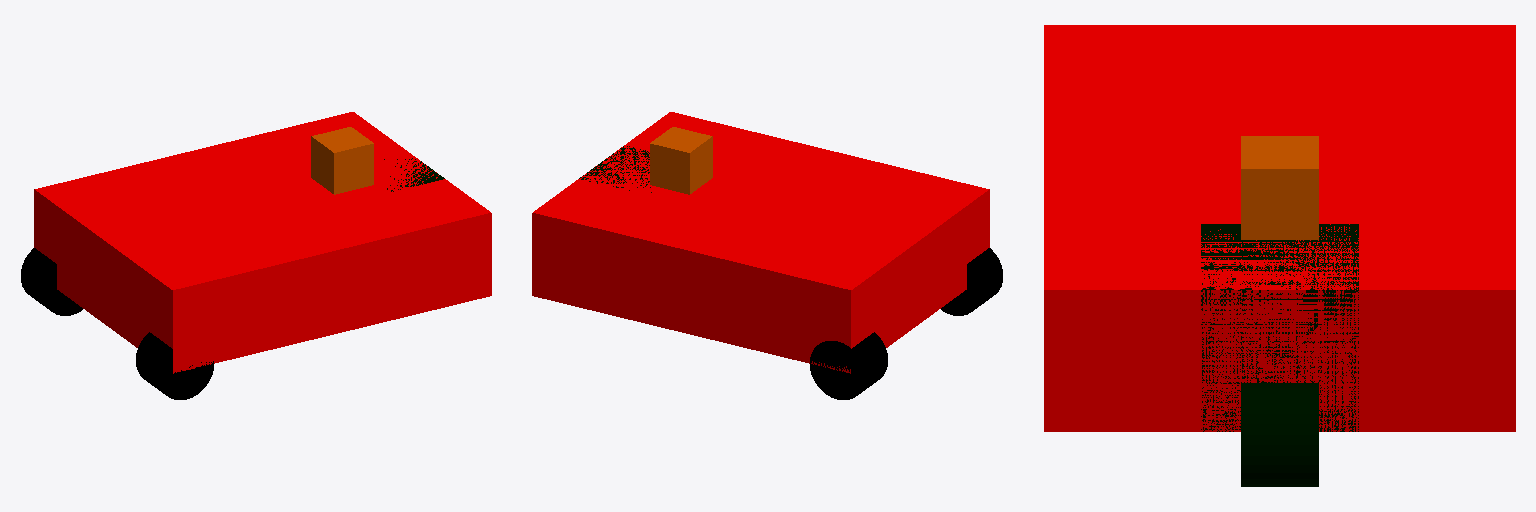
robot.urdf — custom_robot:
<?xml version="1.0"?>
<robot name="custom_robot">
    <link name="base_link">
        <visual>
            <geometry>
                <box size="0.4 0.3 0.1"/>
            </geometry>
            <material name="red">
                <color rgba="1 0.0 0.0 1"/>
            </material>
        </visual>

        <collision>
            <geometry>
                <box size="0.4 0.3 0.1"/>
            </geometry>
        </collision>
        
        <inertial>
            <mass value="1.0"/>
            <inertia ixx="0.015" ixy="0" ixz="0" iyy="0.0375" iyz="0.0" izz="0.0375"/>
        </inertial>
    </link>
    
    <link name="front_caster_of_wheel">
        <visual>
            <geometry>
                <box size="0.1 0.1 0.1"/>
            </geometry>
            <material name="green">
                <color rgba="0.0 0.1 0.0 1"/>
            </material>
        </visual>
        
        <collision>
            <geometry>
                <box size="0.1 0.1 0.1"/>
            </geometry>
        </collision>
        
        <inertial>
            <mass value="0.1"/>
            <inertia ixx="0.00083" ixy="0" ixz="0" iyy="0.00083" iyz="0.0" izz="0.000167"/>
        </inertial>
    </link>
    
    <joint name="front_caster_of_wheel_joint" type="fixed"> <!-- continuous -->
        <axis xyz="0.0 0.0 1"/>
        <parent link="base_link"/>
        <child link="front_caster_of_wheel"/>
        <origin xyz="0.15 0.0 0.0" rpy="0.0 0.0 0.0"/>
    </joint>
    
    <link name="front_wheel">
        <visual>
            <geometry>
                <cylinder radius="0.035" length="0.05"/>
            </geometry>
            <material name="black">
                <color rgba="0.0 0.1 0.0 1"/>
            </material>
        </visual>
        
        <collision>
            <geometry>
                <cylinder radius="0.035" length="0.05"/>
            </geometry>
        </collision>
        
        <inertial>
            <mass value="0.1"/>
            <inertia ixx="5.1458e-5" ixy="0" ixz="0" iyy="5.1458e-5" iyz="0.0" izz="6.125e-5"/>
        </inertial>
    </link>

    <joint name="front_wheel_joint" type="fixed">  <!-- continuous -->
        <axis xyz="0.0 0.0 1"/>
        <parent link="front_caster_of_wheel"/>
        <child link="front_wheel"/>
        <origin xyz="0.05 0.0 -0.05" rpy="-1.5708 0.0 0.0"/>
    </joint>
    
    <link name="right_wheel">
        <visual>
            <geometry>
                <cylinder radius="0.035" length="0.05"/>
            </geometry>
            <material name="black">
                <color rgba="0.0 0.0 0.0 1"/>
            </material>
        </visual>
        
        <collision>
            <geometry>
                <cylinder radius="0.035" length="0.05"/>
            </geometry>
        </collision>
        
        <inertial>
            <mass value="0.1"/>
            <inertia ixx="5.1458e-5" ixy="0" ixz="0" iyy="5.1458e-5" iyz="0.0" izz="6.125e-5"/> 
        </inertial>
    </link>
    
    <joint name="right_wheel_joint" type="continuous">
        <axis xyz="0.0 0.0 1"/>
        <parent link="base_link"/>
        <child link="right_wheel"/>
        <origin xyz="-0.1825 -0.125 -0.05" rpy="-1.5708 0.0 0.0"/>
        <!-- x = -0.2825 -->
    </joint>
    
    <link name="left_wheel">
        <visual>
            <geometry>
                <cylinder radius="0.035" length="0.05"/>
            </geometry>
            <material name="black">
                <color rgba="0.0 0.0 0.0 1"/>
            </material>
        </visual>

        <collision>
            <geometry>
                <cylinder radius="0.035" length="0.05"/>
            </geometry>
        </collision>
    
        <inertial>
            <mass value="0.1"/>
            <inertia ixx="5.1458e-5" ixy="0" ixz="0" iyy="5.1458e-5" iyz="0.0" izz="6.125e-5"/>
        </inertial>
    </link>

    <joint name="left_wheel_joint" type="continuous">
        <axis xyz="0.0 0.0 1"/>
        <parent link="base_link"/>
        <child link="left_wheel"/>
        <origin xyz="-0.1825 0.125 -0.05" rpy="-1.5708 0.0 0.0"/>
        <!-- x = -0.2825 -->
    </joint>

    <link name="laser_scanner">
        <visual>
            <geometry>
                <box size="0.05 0.05 0.05"/>
            </geometry>
        </visual>
        
        <collision>
            <geometry>
                <box size="0.1 0.1 0.1"/>
            </geometry>
        </collision>

        <inertial>
            <mass value="1e-3"/>
            <!-- 1e-2 -->
            <inertia ixx="1e-5" ixy="0" ixz="0.0" iyy="1e-5" iyz="0.0" izz="1e-5"/>
        </inertial>
    </link>

    <joint name="laser_joint" type="fixed">
        <axis xyz="0.0 0.0 1.0"/>
        <origin xyz="0.1 0.0 0.075" rpy="0.0 0.0 0.0"/>
        <parent link="base_link"/>
        <child link="laser_scanner"/>
        <!-- <axis xyz="0.0 0.0 0.0"/>
        <limit lower="0.0" upper="0.0" effort="0.0" velocity="0.0"/> -->
    </joint>


    <!-- <transmission name="laser_joint_trans" type="SimpleTransmission">
        <type>transmission_interface/SimpleTransmission</type>
        <actuator name="laser_joint_motor">
            <hardwareInterface>hardware_interface/EffortJointInterface</hardwareInterface>
            <mechanicalReduction>1</mechanicalReduction>
        </actuator>
        <joint name="laser_joint">
            <hardwareInterface>hardware_interface/EffortJointInterface</hardwareInterface>
        </joint>
    </transmission> -->


    <gazebo>
        <plugin name="differential_drive_controller"
            filename="libgazebo_ros_diff_drive.so">
            <legacyMode>false</legacyMode>
            <alwaysOn>true</alwaysOn>
            <updateRate>20</updateRate>
            <leftJoint>left_wheel_joint</leftJoint>
            <rightJoint>right_wheel_joint</rightJoint>
            <robotBaseFrame>base_link</robotBaseFrame>
            <wheelSeparation>0.25</wheelSeparation>
            <wheelDiameter>0.07</wheelDiameter>
            <wheelTorque>0.1</wheelTorque>
            <commandTopic>cmd_vel</commandTopic>
            <odometryTopic>odom</odometryTopic>
            <odometryFrame>odom</odometryFrame>
            <publishWheelJointState>true</publishWheelJointState>
            <publishOdomTF>true</publishOdomTF>
            <!-- <publishWheelTF>true</publishWheelTF> -->
        </plugin>
    </gazebo>
    <gazebo reference="laser_scanner">
        <sensor type="ray" name="head_hokuyo_sensor">
            <pose>0 0 0 0 0 0</pose>
            <visualize>true</visualize>
            <update_rate>40</update_rate>
            <ray>
                <scan>
                    <horizontal>
                        <samples>2</samples>
                        <resolution>1</resolution>
                        <min_angle>-3.14159</min_angle>
                        <max_angle>3.14159</max_angle>
                    </horizontal>
                </scan>
                <range>
                    <min>0.1</min>
                    <max>5.0</max>
                    <resolution>0.01</resolution>
                    <!-- <resolution>0.003</resolution> -->
                </range>
                <noise>
                    <type>gaussian</type>
                    <mean>0.0</mean>
                    <stddev>0.01</stddev>
                </noise>
            </ray>
            <plugin name="gazebo_ros_head_hokuyo_controller" filename="libgazebo_ros_laser.so">
                <topicName>LaserScan</topicName>
                <frameName>laser_scanner</frameName>
            </plugin>
        </sensor>
    </gazebo>
    <gazebo reference="front_wheel">
        <material>Gazebo/Black</material>
        <mu1>0.0</mu1>
        <mu2>0.0</mu2>
        <selfCollide>false</selfCollide>
    </gazebo>
    <gazebo reference="right_wheel">
        <material>Gazebo/Black</material>
        <mu1>0.8</mu1>
        <mu2>0.8</mu2>
        <selfCollide>false</selfCollide>
    </gazebo>
    <gazebo reference="left_wheel">
        <material>Gazebo/Black</material>
        <mu1>0.8</mu1>
        <mu2>0.8</mu2>
        <selfCollide>false</selfCollide>
    </gazebo>
    <gazebo>
        <plugin name="gazebo_ros_control" filename="libgazebo_ros_control.so">
            <!-- <robotNamespace>/</robotNamespace> -->
            <controlPeriod>0.001</controlPeriod>
            <legacyModeNS>false</legacyModeNS>
        </plugin>
    </gazebo>
    <gazebo>
        <plugin name="joint_state_publisher"
            filename="libgazebo_ros_joint_state_publisher.so">
            <jointName>left_wheel_joint, right_wheel_joint</jointName> 
            <!-- , laser_joint</jointName>  -->
            <!-- front_caster_of_wheel_joint, front_wheel_joint -->
        </plugin>
    </gazebo>
</robot>

--- What the picture shows (computed from the rendered views, not written in the file) ---
3 views of the same robot in one strip: view 1: azimuth 30°, elevation 25°; view 2: azimuth 150°, elevation 25°; view 3: azimuth 270°, elevation 25° (orthographic).
Robot: custom_robot — 6 links, 5 joints (2 continuous, 3 fixed); root link base_link; default pose: all joints at 0.
Visible links, largest first — view 1: base_link, laser_scanner, right_wheel, left_wheel; view 2: base_link, left_wheel, laser_scanner, right_wheel, front_caster_of_wheel; view 3: base_link, front_caster_of_wheel, front_wheel, laser_scanner.
Link boxes in pixels (x1,y1,x2,y2): base_link: (34, 112, 491, 373); laser_scanner: (311, 127, 373, 194); right_wheel: (136, 332, 213, 399); left_wheel: (21, 248, 82, 315); base_link: (532, 112, 989, 373); left_wheel: (810, 332, 887, 399); laser_scanner: (650, 127, 712, 194); right_wheel: (941, 248, 1002, 315); front_caster_of_wheel: (579, 146, 651, 192); base_link: (1044, 25, 1515, 431); front_caster_of_wheel: (1201, 224, 1358, 431); front_wheel: (1241, 383, 1318, 486); laser_scanner: (1241, 136, 1318, 239).
Size in the robot's own frame: 0.4525 by 0.3 by 0.185 metres.
Geometry: primitives only (box / cylinder / sphere), no mesh files.
